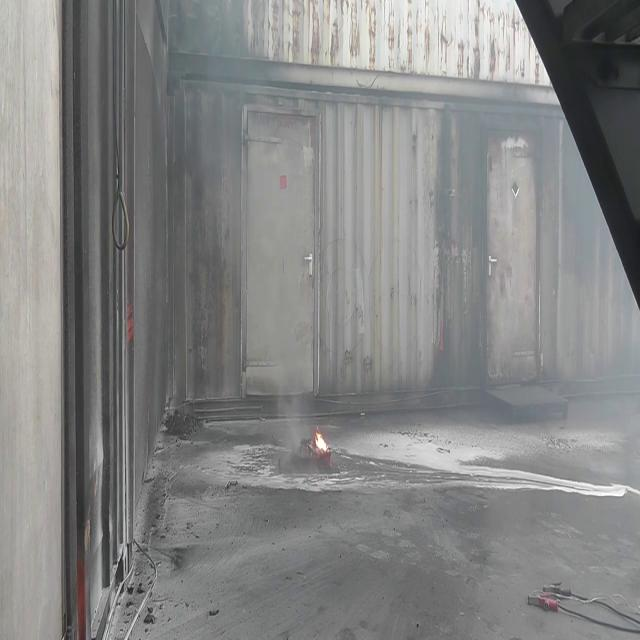Fire: (312, 423, 330, 457)
